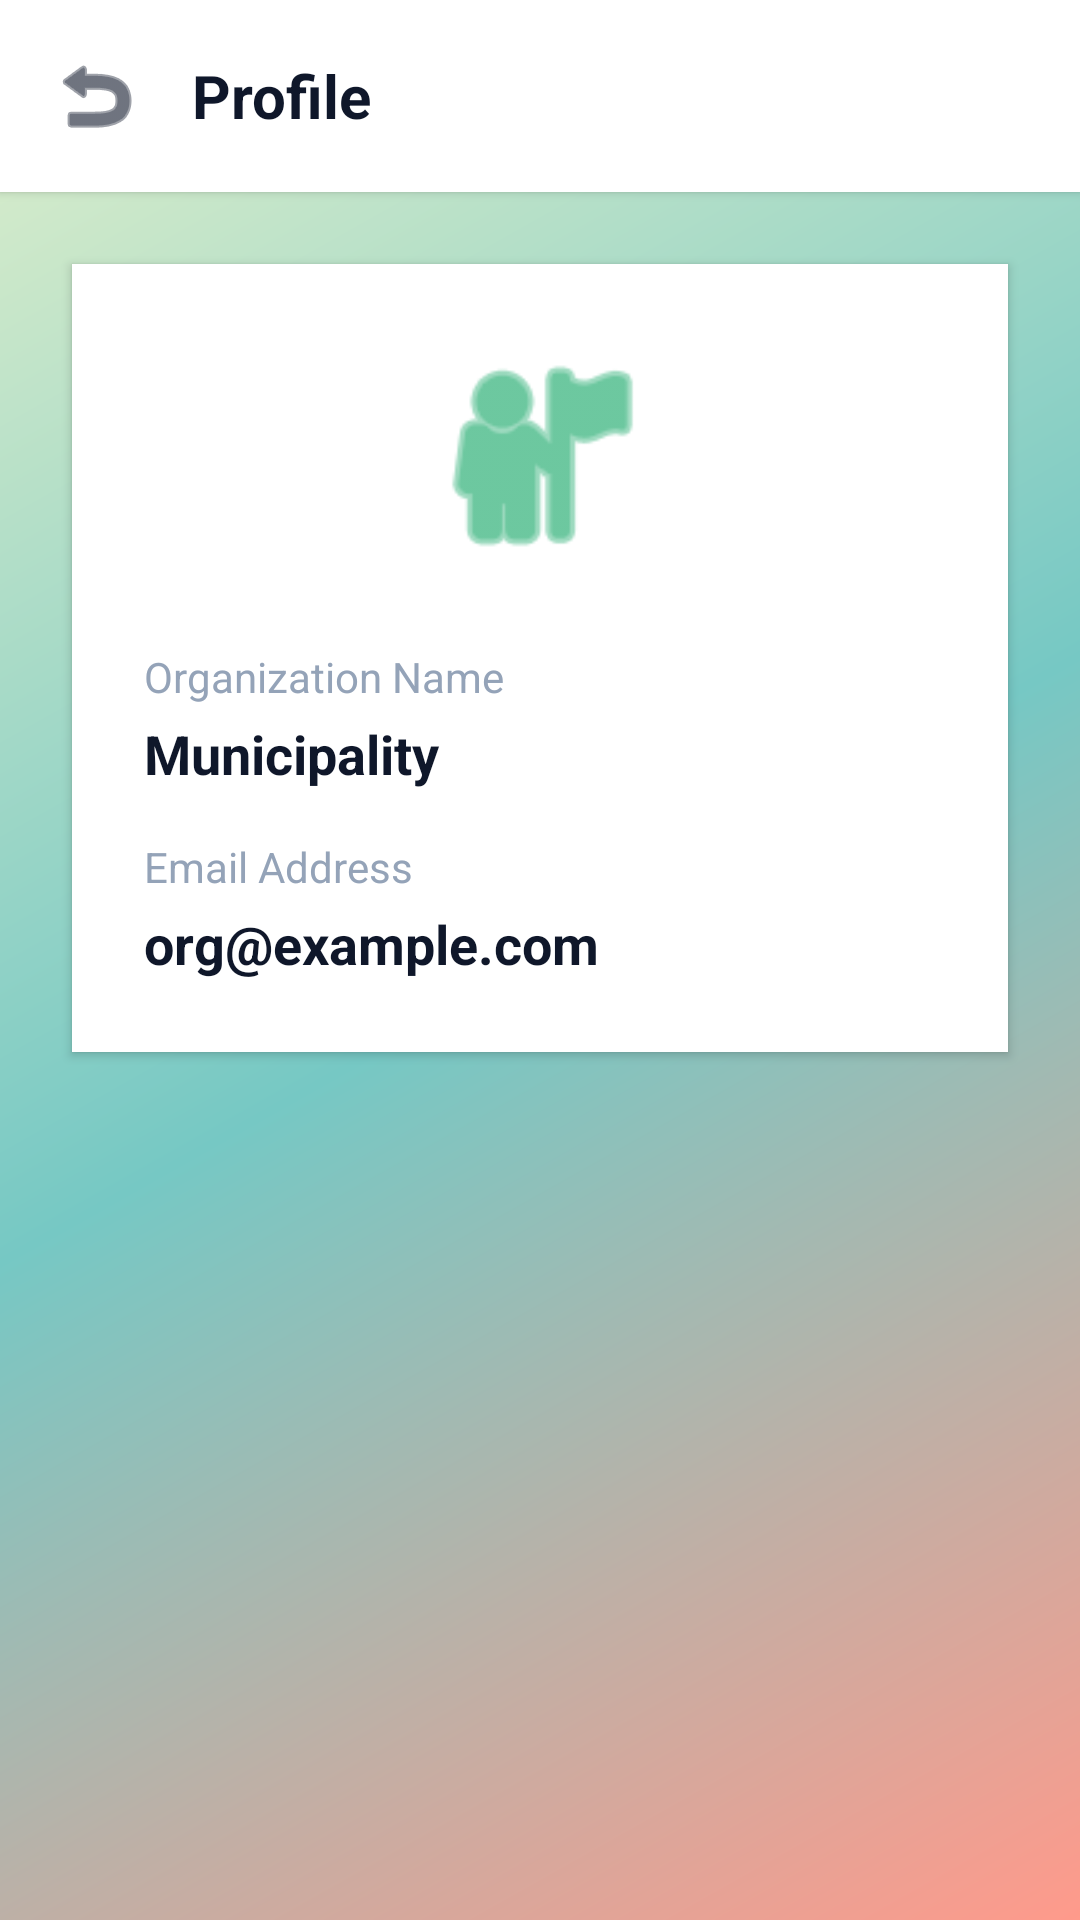

Icons on this 1080px×1920px Android screen, each with the point to tap as (x=x, y=y):
myplaces: (x=542, y=456)
revert: (x=97, y=96)
